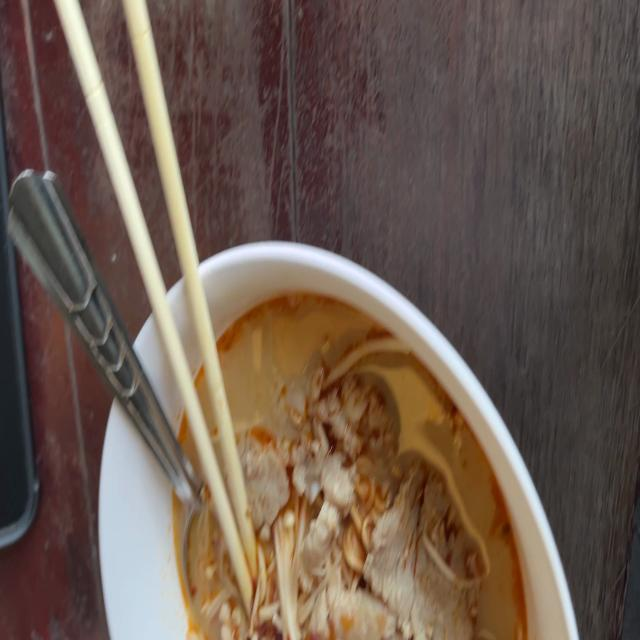noodle: (168, 284, 536, 640)
